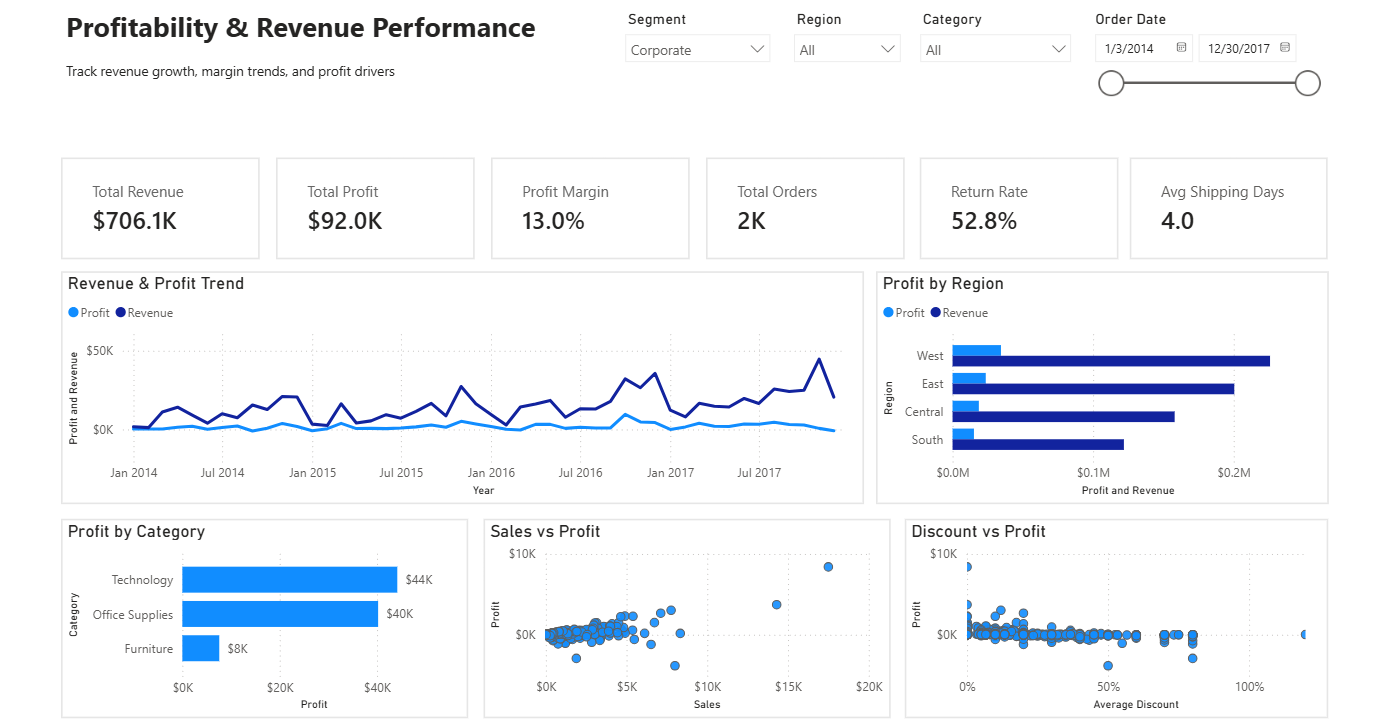

The page's visual inventory and layout, read from the dashboard file:
{"tool":"powerbi","page":{"name":"Page 1","canvas":[1280,720],"ordinal":0},"visuals":[{"type":"cardVisual","fields":{"Data":["superstore_processed.Total Revenue"]},"box":[19.6,160.2,195,100.3],"z":0},{"type":"cardVisual","fields":{"Data":["superstore_processed.Total Profit"]},"box":[230.9,160.2,195,100.3],"z":1000},{"type":"cardVisual","fields":{"Data":["superstore_processed.Profit Margin"]},"box":[442.1,160.2,195,100.3],"z":2000},{"type":"cardVisual","fields":{"Data":["superstore_processed.Total Orders"]},"box":[652.9,160.2,195,100.3],"z":3000},{"type":"cardVisual","fields":{"Data":["superstore_processed.Return Rate"]},"box":[863.6,160.2,195,100.3],"z":4000},{"type":"lineChart","title":"Revenue & Profit Trend","fields":{"Category":["superstore_processed.Order Date.Variation.Date Hierarchy.Year","superstore_processed.Order Date.Variation.Date Hierarchy.Month"],"Y":["superstore_processed.Total Profit","superstore_processed.Total Revenue"]},"box":[20,271.2,788.8,228.8],"z":5000},{"type":"clusteredBarChart","title":"Profit by Category","fields":{"Category":["superstore_processed.Category"],"Y":["superstore_processed.Total Profit"]},"box":[20,515,400,196.2],"z":6000},{"type":"scatterChart","title":"Sales vs Profit","fields":{"X":["Sum(superstore_processed.Sales)"],"Y":["Sum(superstore_processed.Profit)"],"Category":["superstore_processed.Product Name"]},"box":[434.4,515,400,196],"z":7000},{"type":"scatterChart","title":"Discount vs Profit","fields":{"X":["Avg(superstore_processed.Discount)"],"Y":["Sum(superstore_processed.Profit)"],"Category":["superstore_processed.Product Name"]},"box":[848.8,515,416.2,196],"z":8000},{"type":"clusteredBarChart","title":"Profit by Region","fields":{"Category":["superstore_processed.Region"],"Y":["superstore_processed.Total Profit","superstore_processed.Total Revenue"]},"box":[820,271.2,445,228.8],"z":9000},{"type":"slicer","fields":{"Values":["superstore_processed.Region"]},"box":[728.8,10,125,85],"z":10000},{"type":"slicer","fields":{"Values":["superstore_processed.Segment"]},"box":[563.8,10,162.5,67.5],"z":11000},{"type":"slicer","fields":{"Values":["superstore_processed.Category"]},"box":[853.8,10,168.8,85],"z":12000},{"type":"slicer","fields":{"Values":["superstore_processed.Order Date"]},"box":[1022.5,10,242.5,150],"z":13000},{"type":"textbox","box":[20,7.5,543.8,115],"z":14000},{"type":"cardVisual","fields":{"Data":["superstore_processed.Avg Shipping Days"]},"box":[1070,160.2,194.4,100.3],"z":15000}]}

Visuals, with their boxes on the page's 1280x720 design canvas (x1, y1, x2, y2). These are canvas units, not pixel positions in the 1390x727 screenshot, which may show the page scaled, cropped or inside an application window:
cardVisual - superstore_processed.Total Revenue: (20,160,215,260)
cardVisual - superstore_processed.Total Profit: (231,160,426,260)
cardVisual - superstore_processed.Profit Margin: (442,160,637,260)
cardVisual - superstore_processed.Total Orders: (653,160,848,260)
cardVisual - superstore_processed.Return Rate: (864,160,1059,260)
"Revenue & Profit Trend" lineChart: (20,271,809,500)
"Profit by Category" clusteredBarChart: (20,515,420,711)
"Sales vs Profit" scatterChart: (434,515,834,711)
"Discount vs Profit" scatterChart: (849,515,1265,711)
"Profit by Region" clusteredBarChart: (820,271,1265,500)
slicer - superstore_processed.Region: (729,10,854,95)
slicer - superstore_processed.Segment: (564,10,726,78)
slicer - superstore_processed.Category: (854,10,1023,95)
slicer - superstore_processed.Order Date: (1022,10,1265,160)
textbox: (20,8,564,122)
cardVisual - superstore_processed.Avg Shipping Days: (1070,160,1264,260)
